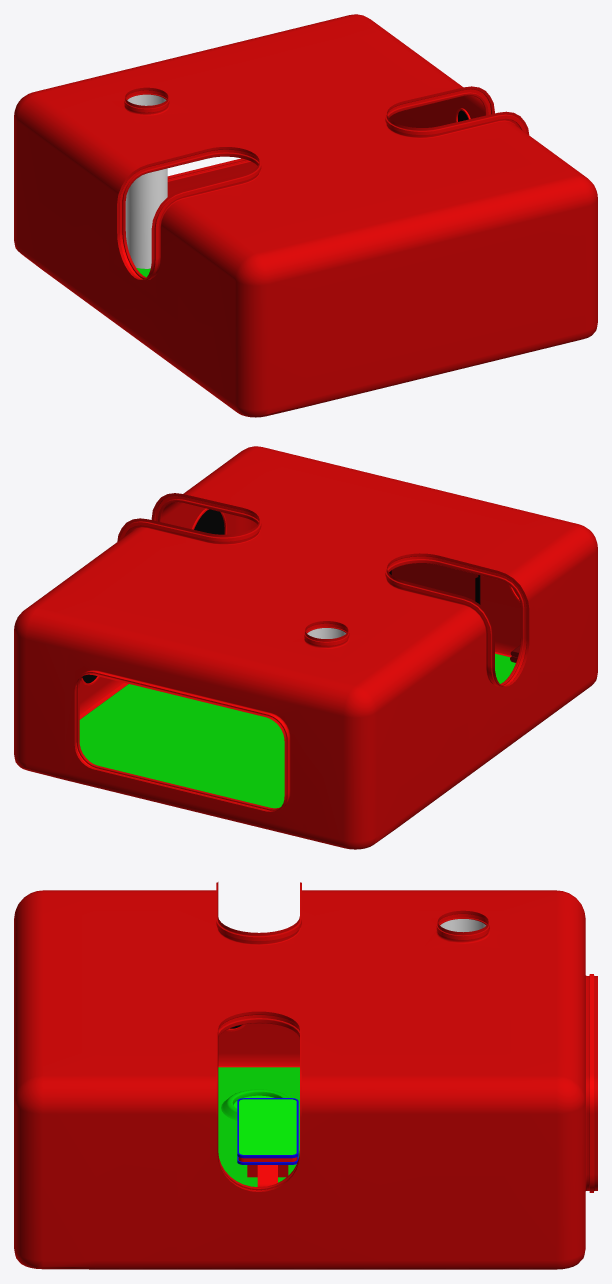
Rendered from Room_mesh.fbx.
3 views of the same model, one above another, from view 1: azimuth 30°, elevation 25°; view 2: azimuth 150°, elevation 25°; view 3: azimuth 270°, elevation 25° (orthographic). The views are drawn at different scales.
Visible parts, largest first — view 1: Room_combined, Bulb__1_; view 2: Room_combined; view 3: Room_combined.
Part boxes in pixels (box(x1,y1,x2,y2)): Room_combined: box(14, 14, 597, 417); Bulb__1_: box(125, 94, 167, 268); Room_combined: box(14, 446, 597, 849); Room_combined: box(14, 882, 597, 1269).
Bounding box in the file's own units: 9437 × 3990 × 10711.
